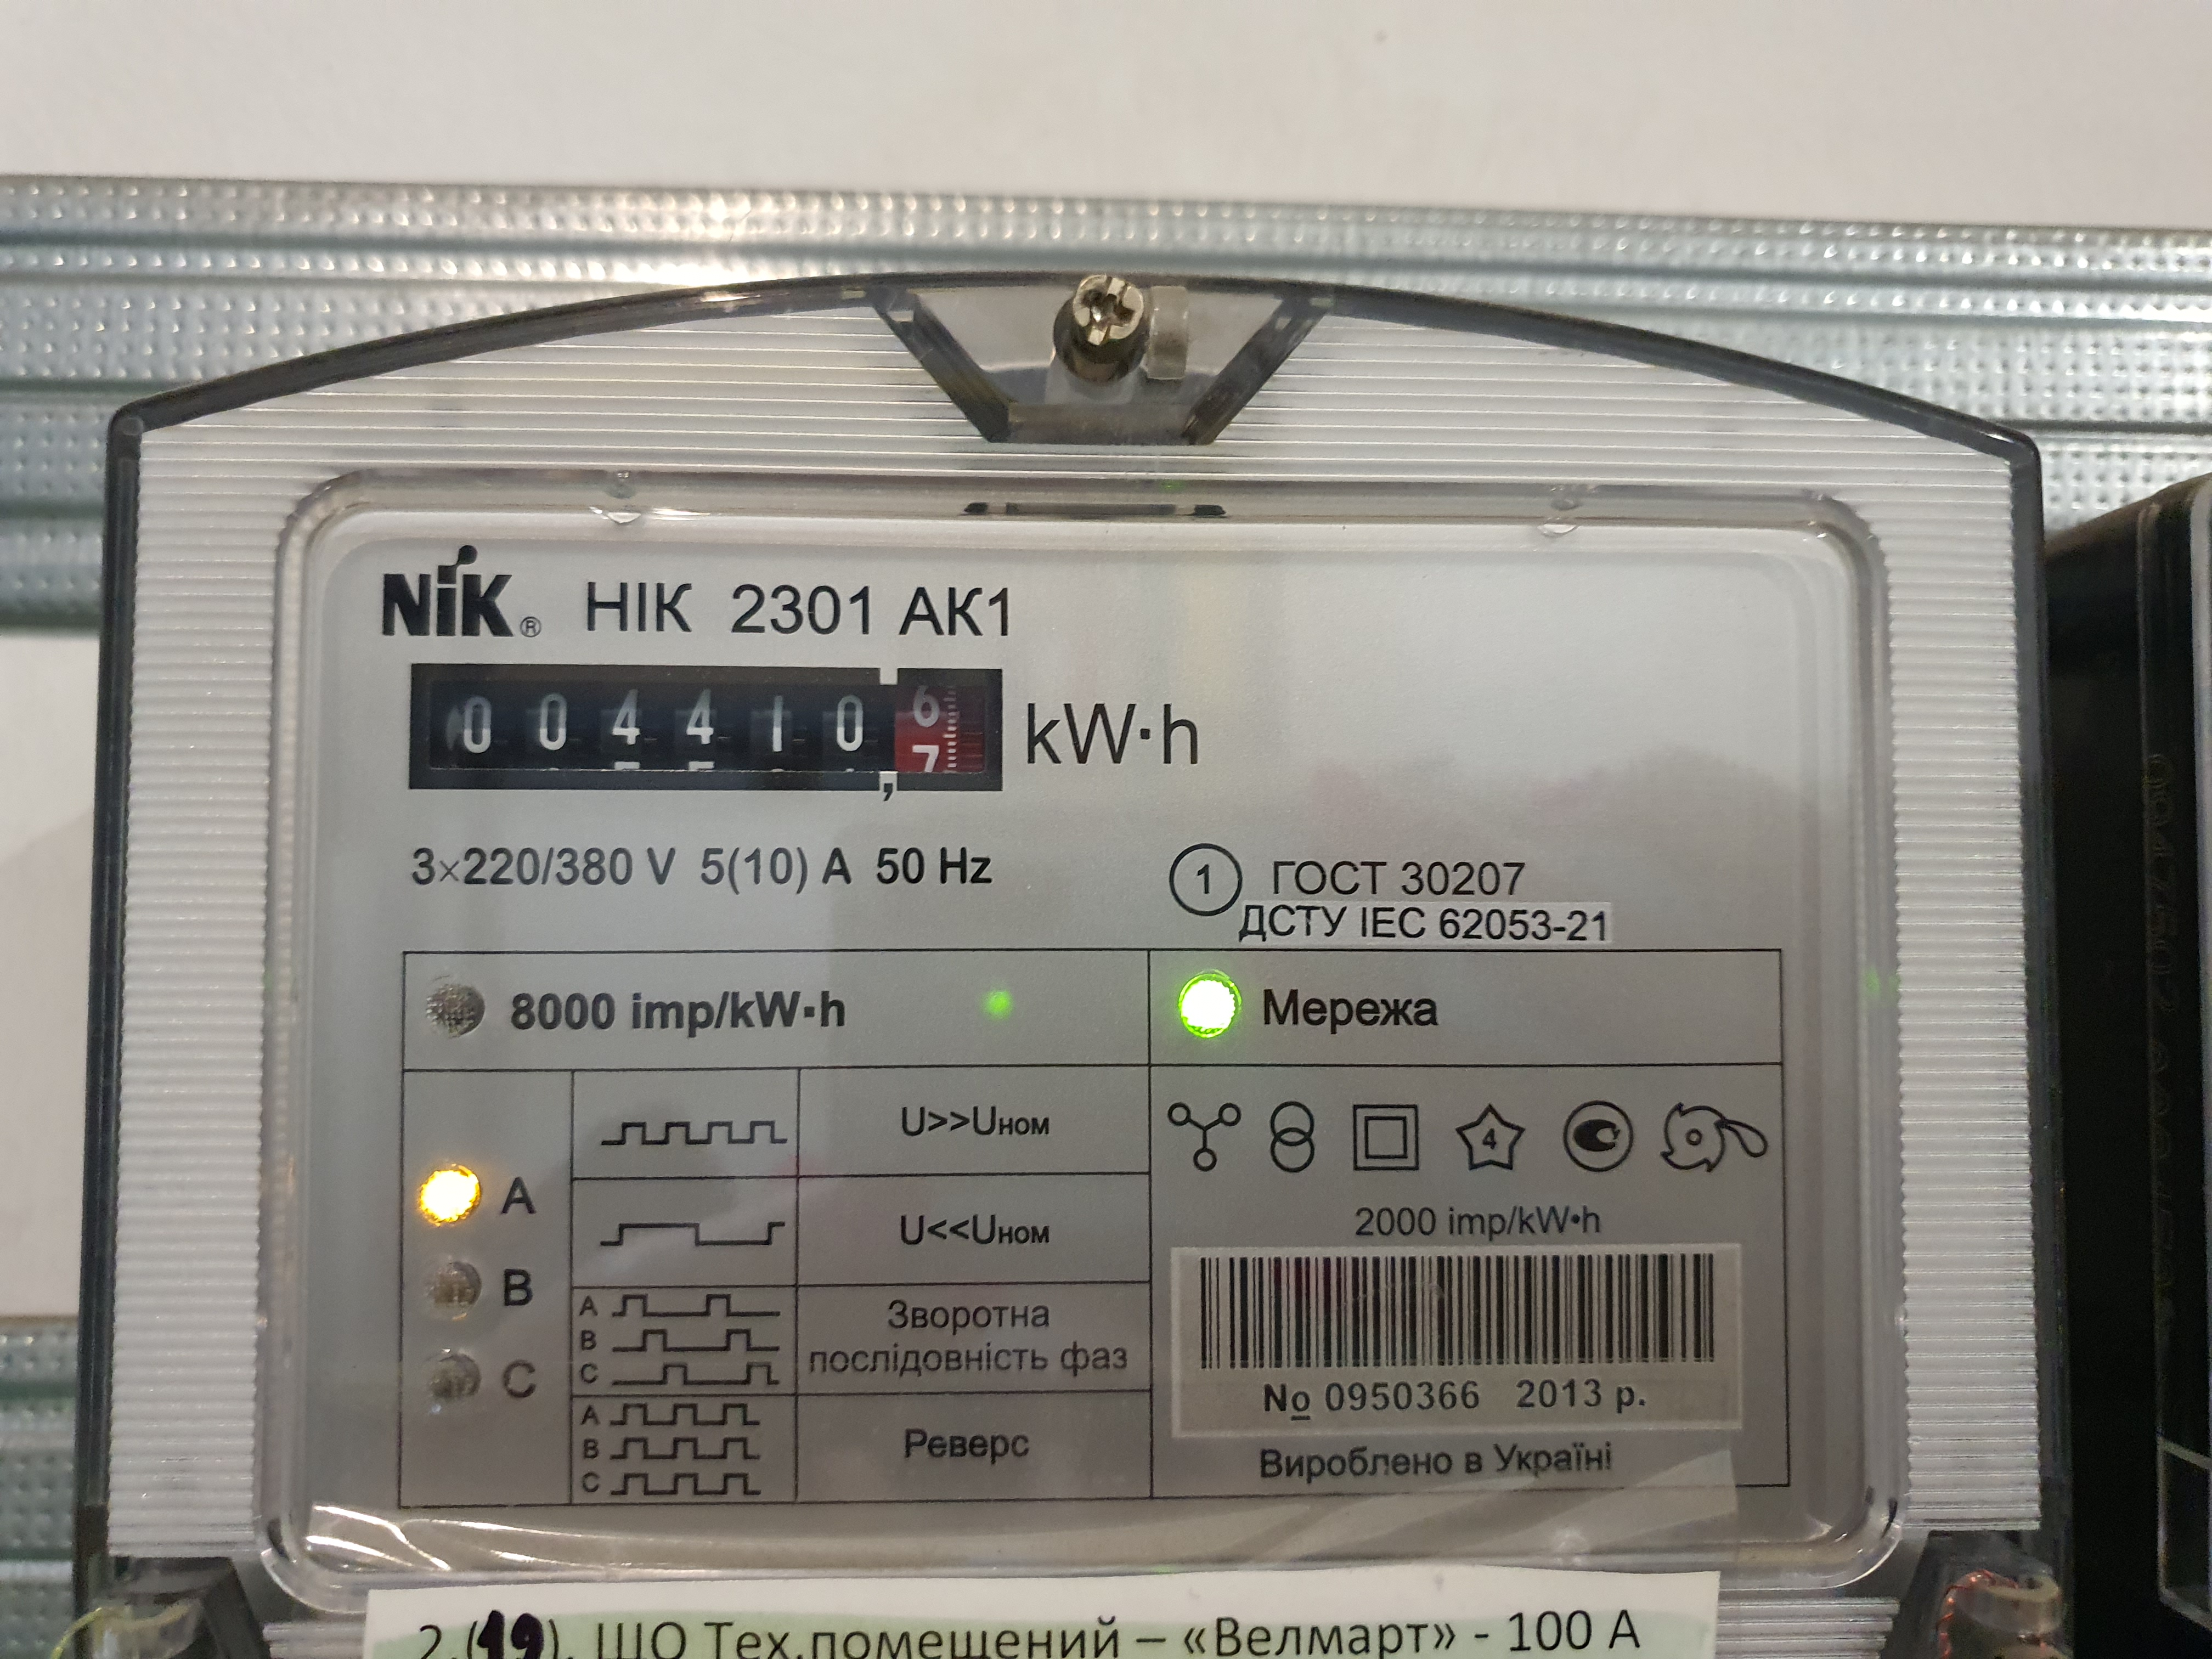0: (458, 690, 495, 756), (833, 692, 867, 755), (536, 688, 568, 755)
1: (765, 692, 787, 756)
4: (681, 685, 719, 751), (608, 683, 644, 748)
6: (913, 685, 942, 728)
7: (909, 741, 942, 775)
screen: (390, 643, 1024, 814)
